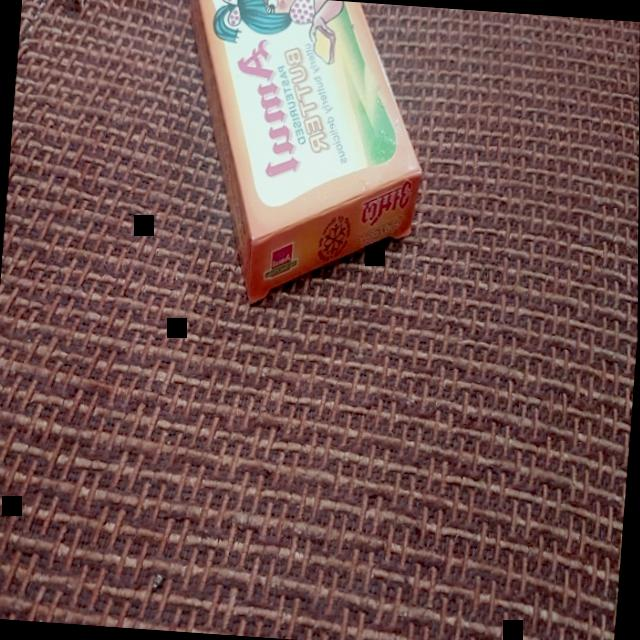butter: (153, 0, 442, 319)
